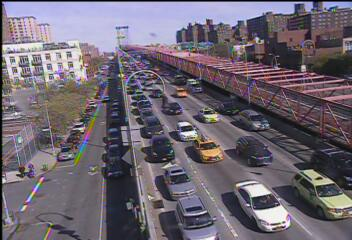neg: (188, 146, 206, 171), (222, 124, 234, 139), (197, 35, 207, 48), (89, 144, 98, 156), (108, 161, 117, 173), (122, 203, 131, 215), (109, 129, 117, 141), (116, 24, 124, 36), (142, 95, 150, 106), (57, 31, 65, 41), (190, 93, 198, 102), (131, 117, 138, 127), (138, 176, 145, 186), (177, 190, 184, 200), (209, 213, 216, 222), (254, 184, 260, 193), (271, 46, 276, 54), (285, 143, 289, 149)
pos: (22, 159, 38, 179), (11, 161, 25, 178)
